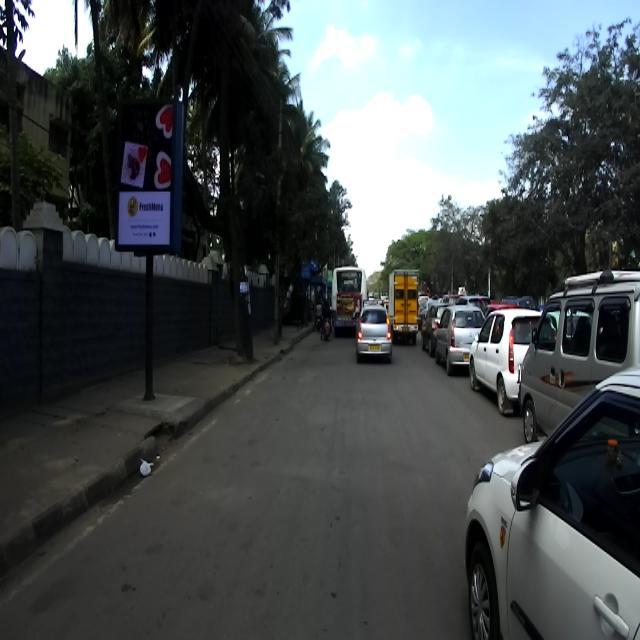barrier ahead at: (116, 99, 178, 418)
car ahead at: (355, 301, 394, 367)
